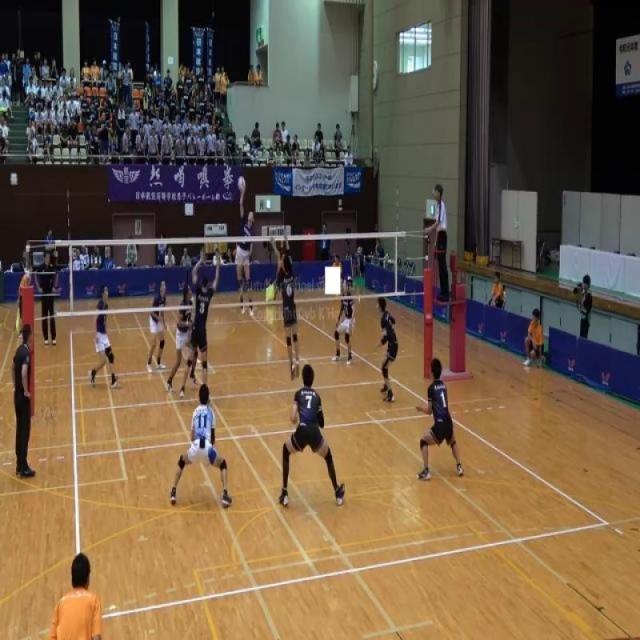volleyball: (237, 175, 247, 194)
